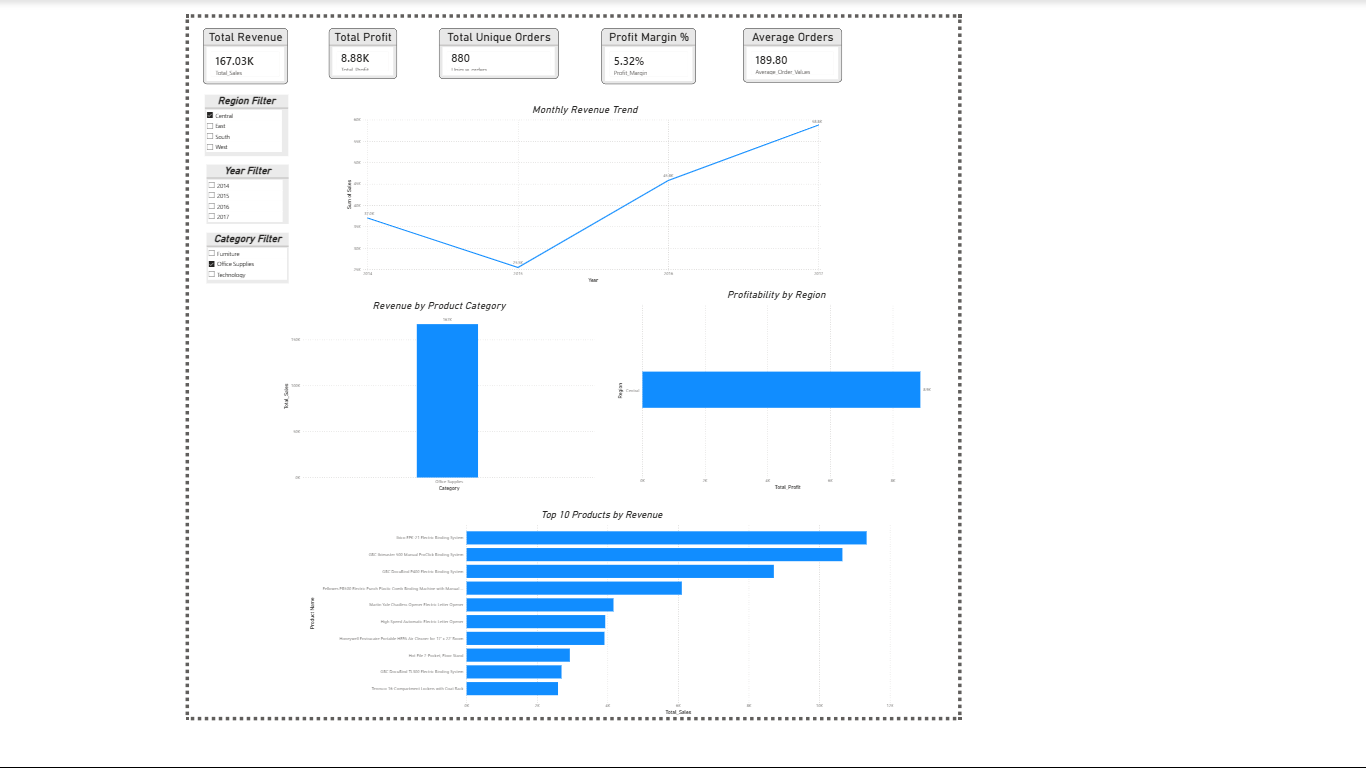

What the dashboard file says about the page in this screenshot:
{"tool":"powerbi","page":{"name":"Page 1","canvas":[2200,2000],"ordinal":0},"visuals":[{"type":"cardVisual","title":"Total Revenue","fields":{"Data":["Sample - Superstore.Total_Sales"]},"box":[40,30,242.5,160],"z":0},{"type":"cardVisual","title":"Total Unique Orders","fields":{"Data":["Sample - Superstore.Unique_orders"]},"box":[716.8,30,341.6,144.9],"z":1000},{"type":"cardVisual","title":"Total Profit","fields":{"Data":["Sample - Superstore.Total_Profit"]},"box":[402.3,30,194.6,144.9],"z":2000},{"type":"cardVisual","title":"Profit Margin %","fields":{"Data":["Sample - Superstore.Profit_Margin"]},"box":[1178.2,30,270.3,160],"z":3000},{"type":"cardVisual","title":"Average Orders","fields":{"Data":["Sample - Superstore.Average_Order_Values"]},"box":[1582.5,30.3,282.5,155],"z":4000},{"type":"lineChart","title":"Monthly Revenue Trend","fields":{"Y":["Sum(Sample - Superstore.Sales)"],"Category":["Sample - Superstore.Year","Sample - Superstore.Quarter","Sample - Superstore.Month Name","Sample - Superstore.Order Date.Variation.Date Hierarchy.Day"]},"box":[444,246,1374,518],"z":5000},{"type":"clusteredColumnChart","title":"Revenue by Product Category","fields":{"Y":["Sample - Superstore.Total_Sales"],"Category":["Sample - Superstore.Category","Sample - Superstore.Sub-Category","Sample - Superstore.Product Name"]},"box":[266.7,803.3,900,553.3],"z":6000},{"type":"clusteredBarChart","title":"Profitability by Region","fields":{"Category":["Sample - Superstore.Region","Sample - Superstore.State","Sample - Superstore.City"],"Y":["Sample - Superstore.Total_Profit"]},"box":[1220,775,920,580],"z":7000},{"type":"barChart","title":"Top 10 Products by Revenue","fields":{"Y":["Sample - Superstore.Total_Sales"],"Category":["Sample - Superstore.Product Name"]},"box":[340,1405,1680,595],"z":8000},{"type":"listSlicer","title":"Region Filter","fields":{"Values":["Sample - Superstore.Region"]},"box":[44.3,220,238.6,175.7],"z":9000},{"type":"listSlicer","title":"Category Filter","fields":{"Values":["Sample - Superstore.Category"]},"box":[47.5,612.5,235,145],"z":10000},{"type":"listSlicer","title":"Year Filter","fields":{"Values":["Sample - Superstore.Year"]},"box":[47.5,417.5,235,170],"z":11000}]}

Visuals, with their boxes on the page's 2200x2000 design canvas (x1, y1, x2, y2). These are canvas units, not pixel positions in the 1366x768 screenshot, which may show the page scaled, cropped or inside an application window:
"Total Revenue" cardVisual: bbox(40, 30, 282, 190)
"Total Unique Orders" cardVisual: bbox(717, 30, 1058, 175)
"Total Profit" cardVisual: bbox(402, 30, 597, 175)
"Profit Margin %" cardVisual: bbox(1178, 30, 1448, 190)
"Average Orders" cardVisual: bbox(1582, 30, 1865, 185)
"Monthly Revenue Trend" lineChart: bbox(444, 246, 1818, 764)
"Revenue by Product Category" clusteredColumnChart: bbox(267, 803, 1167, 1357)
"Profitability by Region" clusteredBarChart: bbox(1220, 775, 2140, 1355)
"Top 10 Products by Revenue" barChart: bbox(340, 1405, 2020, 2000)
"Region Filter" listSlicer: bbox(44, 220, 283, 396)
"Category Filter" listSlicer: bbox(48, 612, 282, 758)
"Year Filter" listSlicer: bbox(48, 418, 282, 588)
